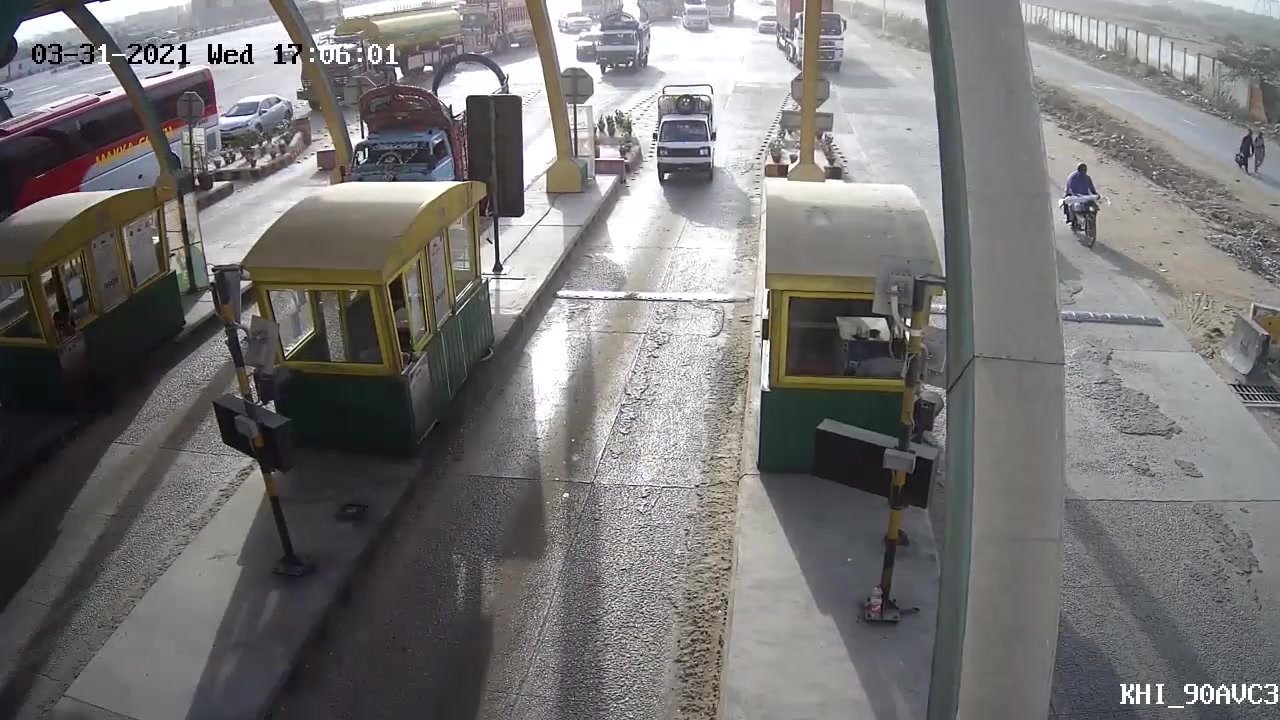F1: (644, 79, 722, 192)
